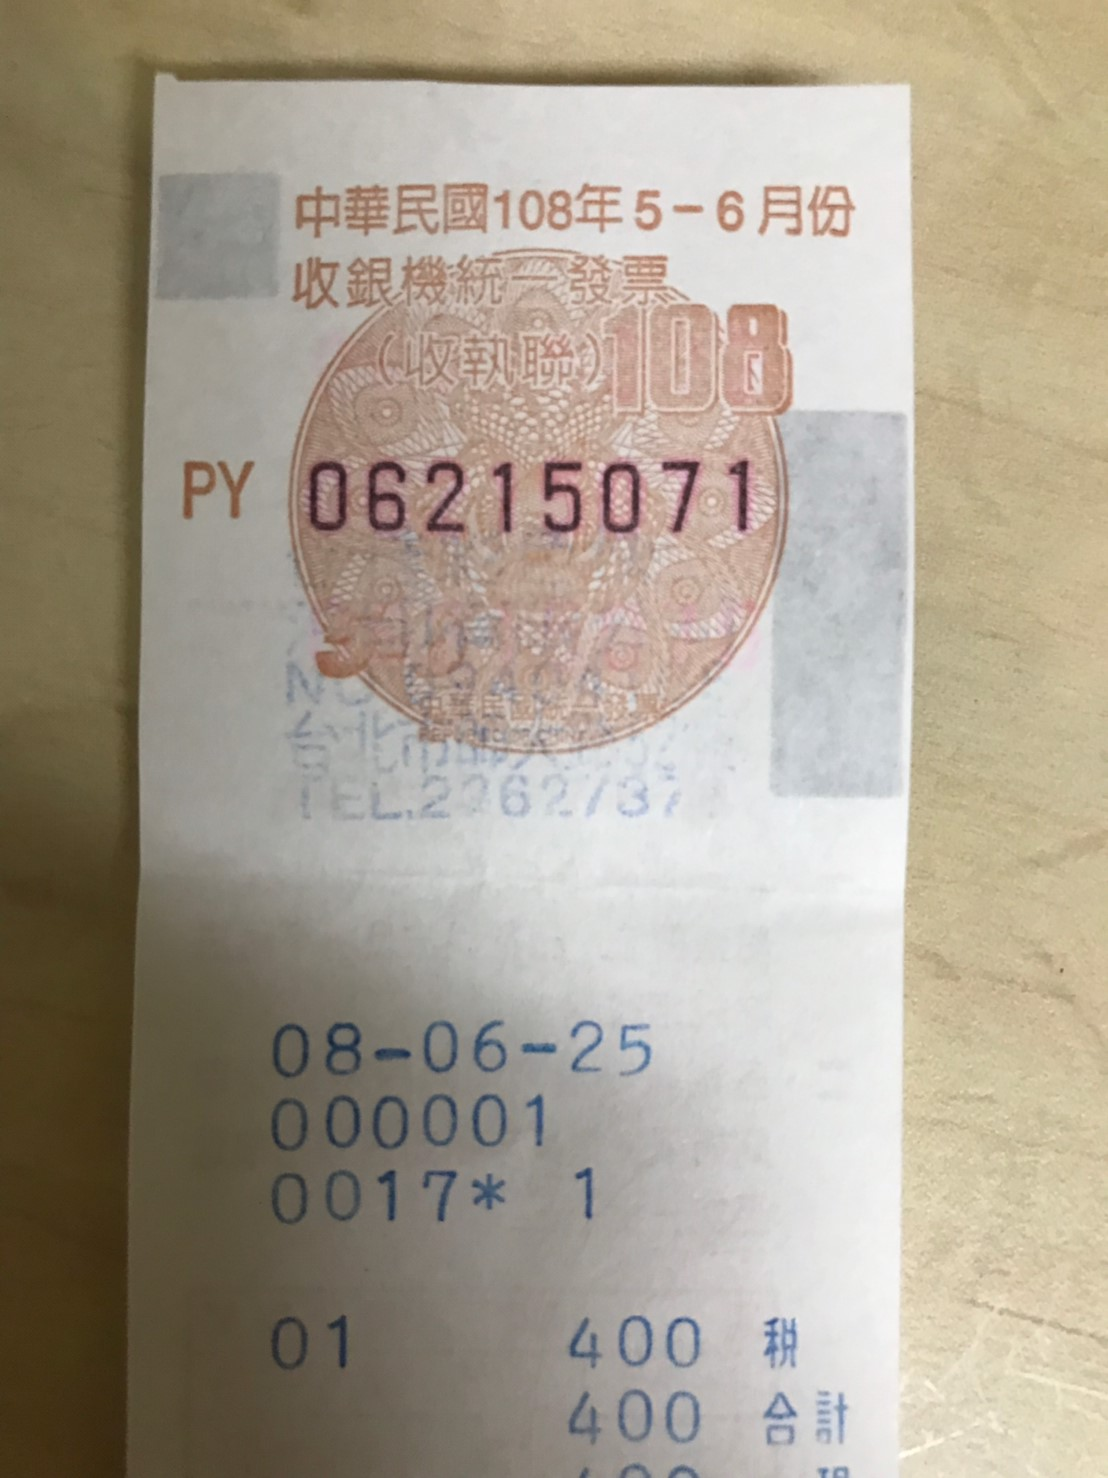Date_Old: (492, 178, 864, 243)
Number_Old: (306, 457, 759, 539)
